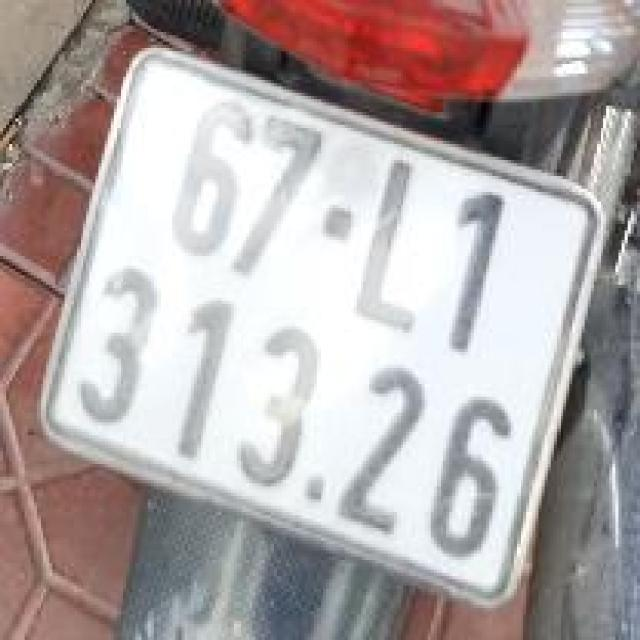1: (151, 274, 257, 469), (422, 172, 525, 364)
2: (322, 348, 448, 540)
3: (219, 313, 339, 501), (62, 249, 176, 434)
6: (411, 375, 525, 571), (154, 80, 270, 270)
7: (212, 98, 344, 290)
L: (342, 140, 472, 345)
